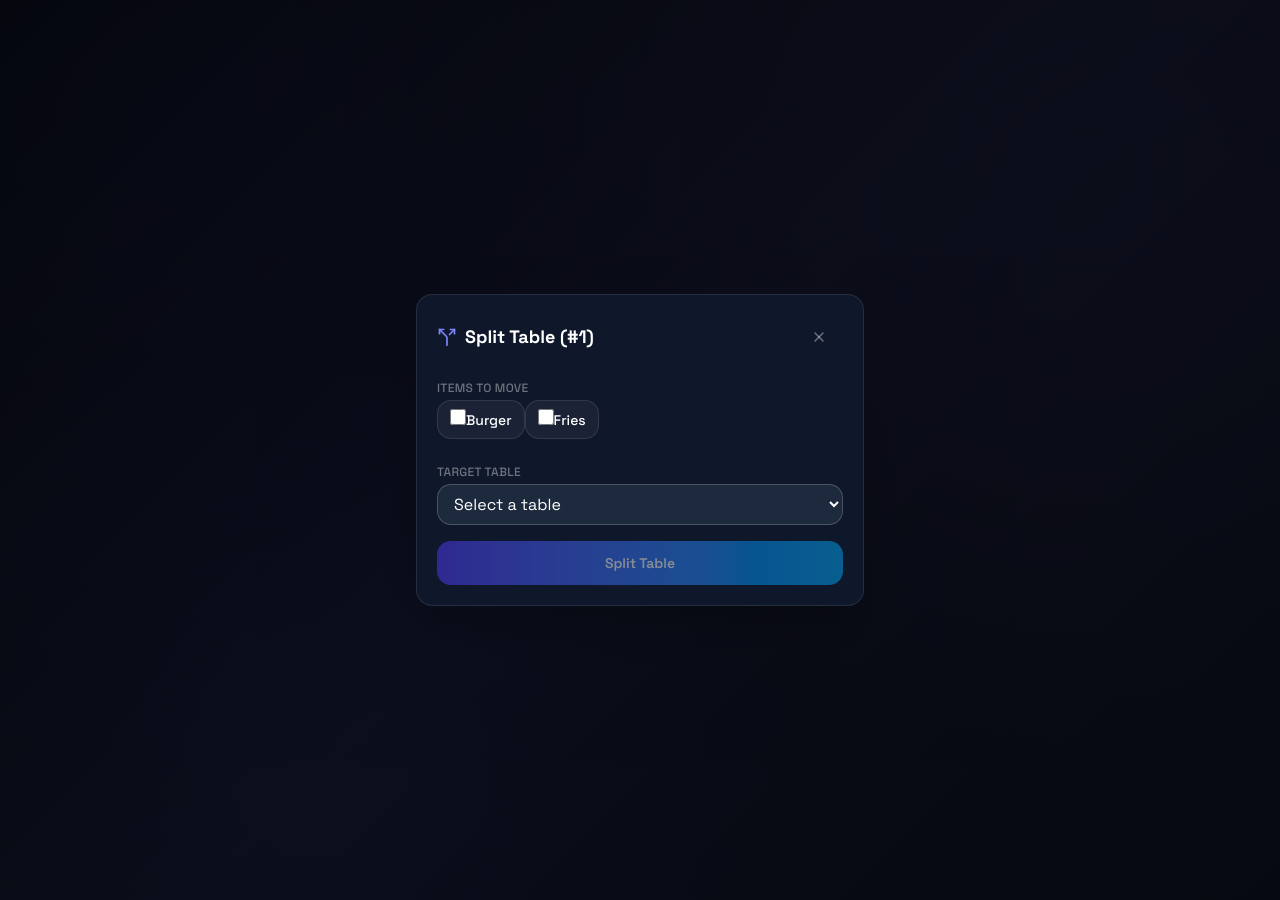
Test: SplitTableModal › keeps submit disabled until an item and a target table are both selected
The width and height of the screenshot is (1280, 900).
Expected: the button "Split Table" is disabled, top-left (437, 541), bottom-right (843, 585)
Step 1. Click the checkbox labelled "Burger" → (458, 417), box top-left (450, 409), bottom-right (466, 425)
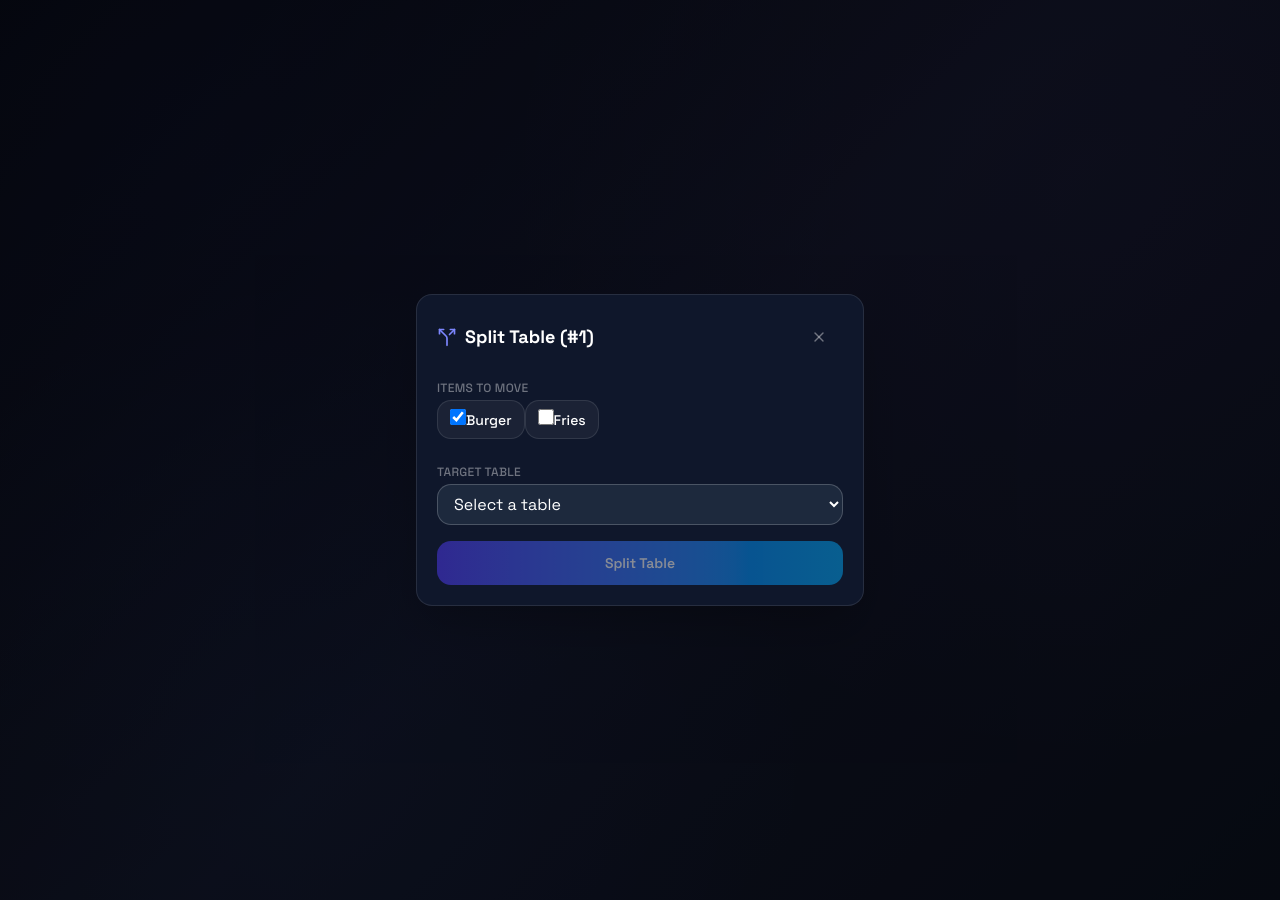
Expected: the button "Split Table" is disabled, top-left (437, 541), bottom-right (843, 585)
Step 2. Select "Table 2" in the dropdown labelled "Target table" → (640, 504), box top-left (437, 484), bottom-right (843, 525)
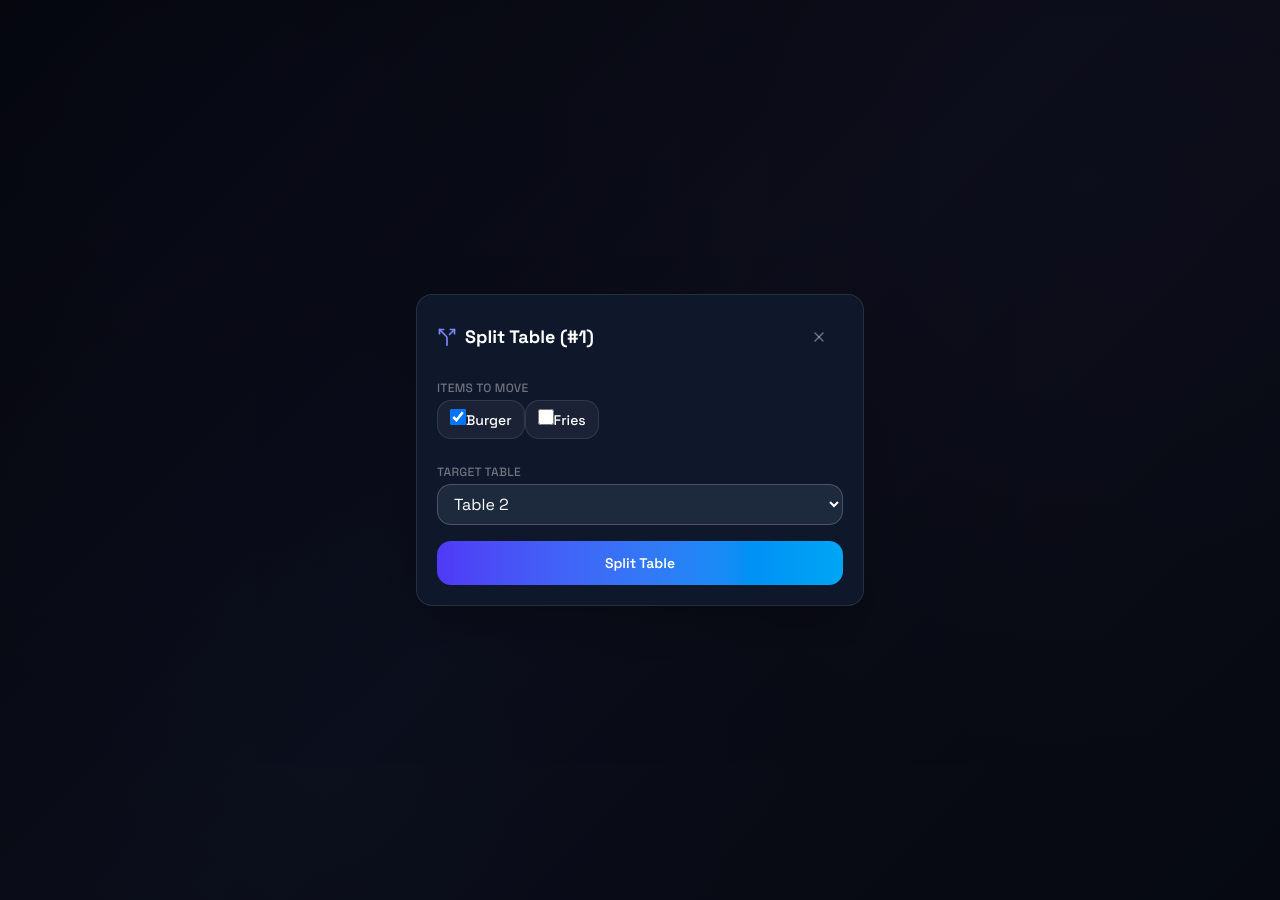
Now the button "Split Table" is enabled, box top-left (437, 541), bottom-right (843, 585)
